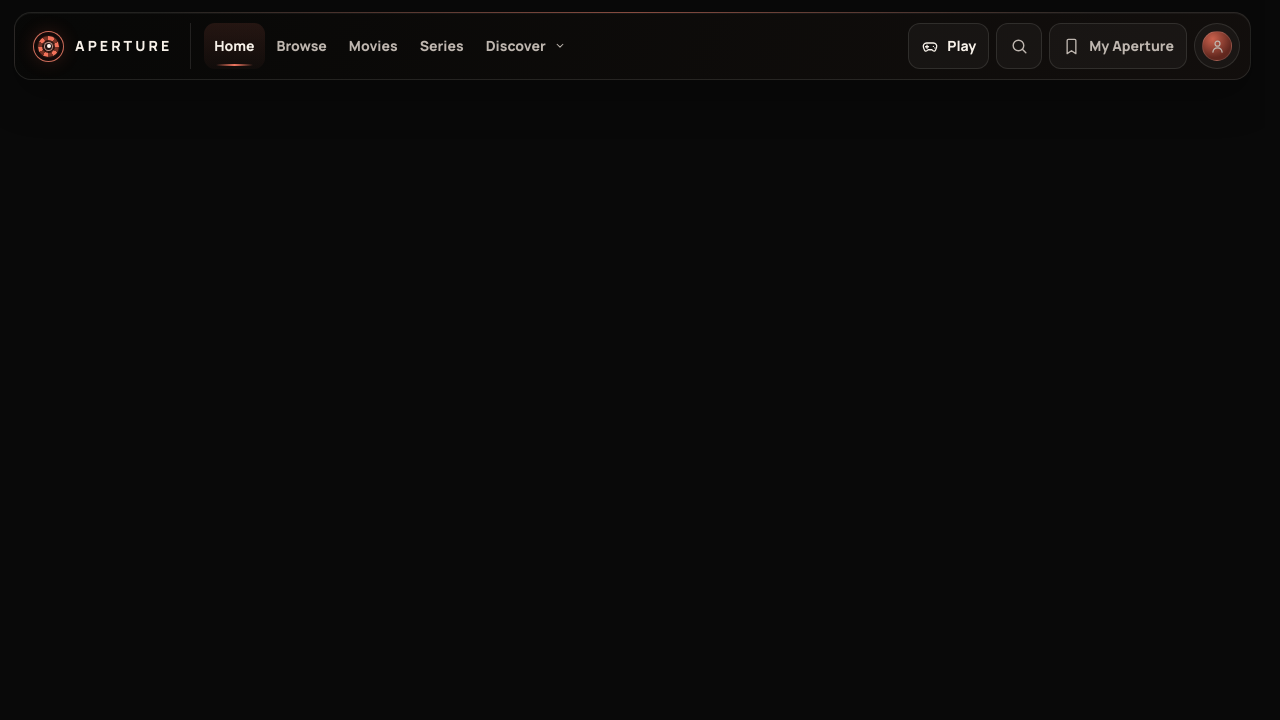
Test: HeaderNavigation › keeps the Discover, library and account menus mutually exclusive
The width and height of the screenshot is (1280, 720).
Click the button "Discover".
click(526, 46)  # box x1=476 y1=23 x2=577 y2=69
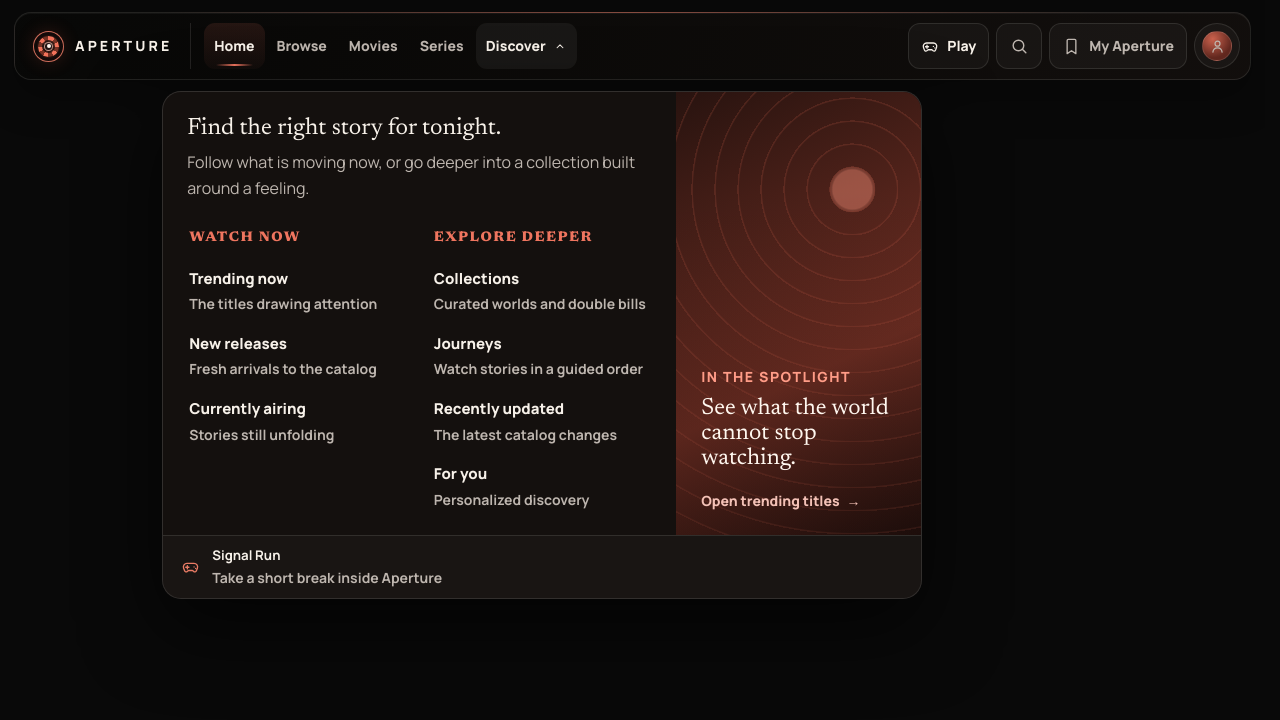
Result: the button "Discover" is expanded at x1=476 y1=23 x2=577 y2=69
Result: the heading "Find the right story for tonight." is shown at x1=187 y1=117 x2=501 y2=140
Click the button "My Aperture".
click(1118, 46)  # box x1=1049 y1=23 x2=1187 y2=69
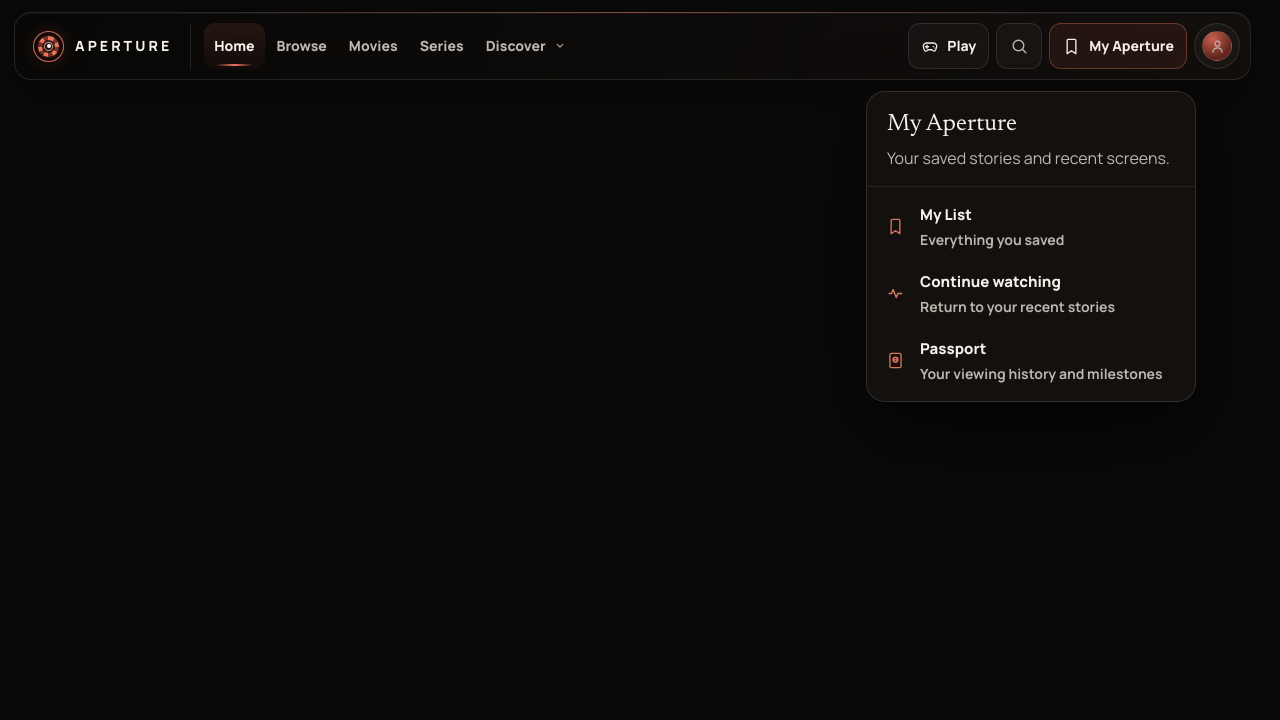
Result: the button "Discover" is collapsed at x1=476 y1=23 x2=577 y2=69
Result: the button "My Aperture" is expanded at x1=1049 y1=23 x2=1187 y2=69
Result: the heading "Find the right story for tonight." is gone
Click the button named "Profile and account".
click(1217, 46)  # box x1=1194 y1=23 x2=1240 y2=69
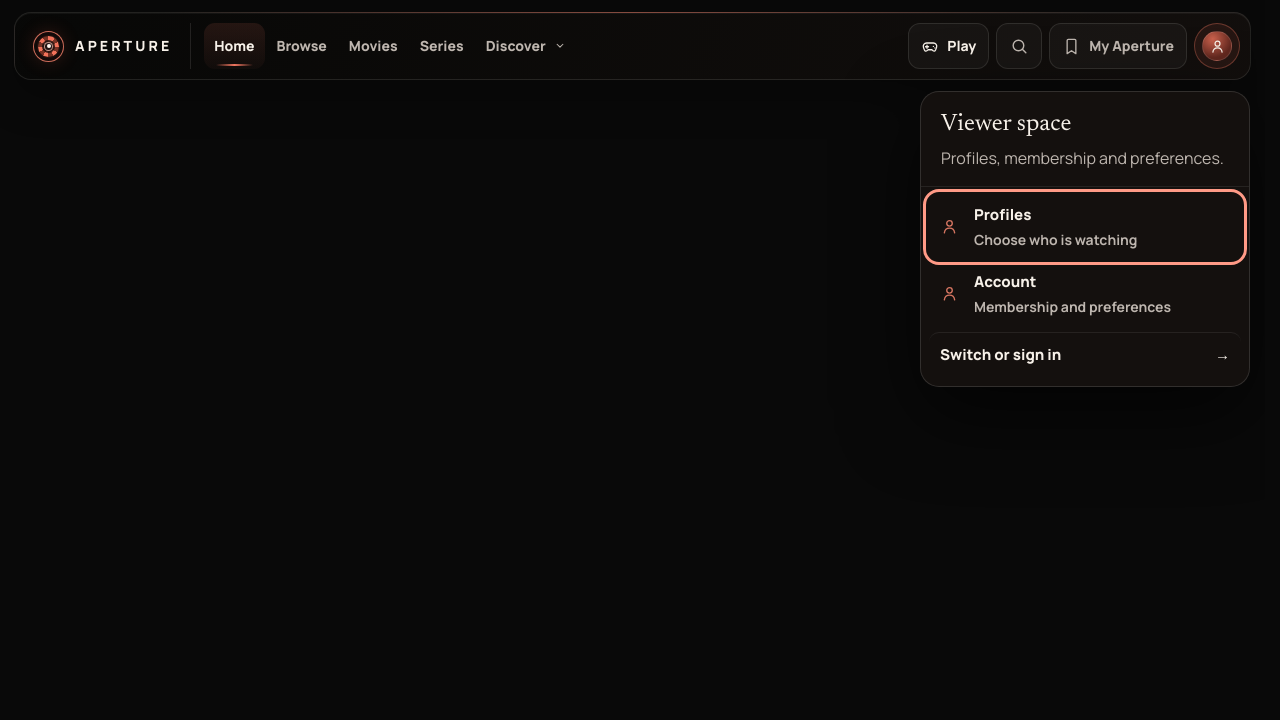
Result: the button "My Aperture" is collapsed at x1=1049 y1=23 x2=1187 y2=69
Result: the button named "Profile and account" is expanded at x1=1194 y1=23 x2=1240 y2=69
Result: the heading "Viewer space" is shown at x1=941 y1=113 x2=1071 y2=136
